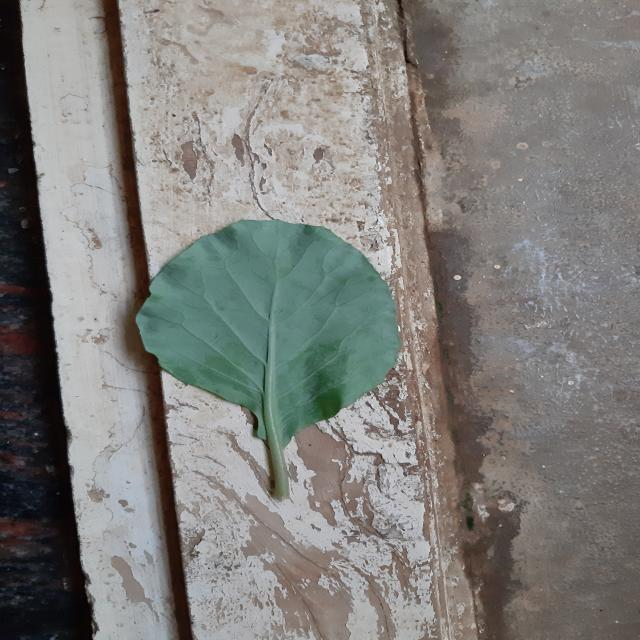Kohlrabi: (136, 220, 400, 499)
